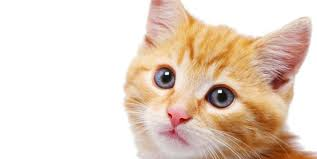Gato: (119, 1, 313, 156)
